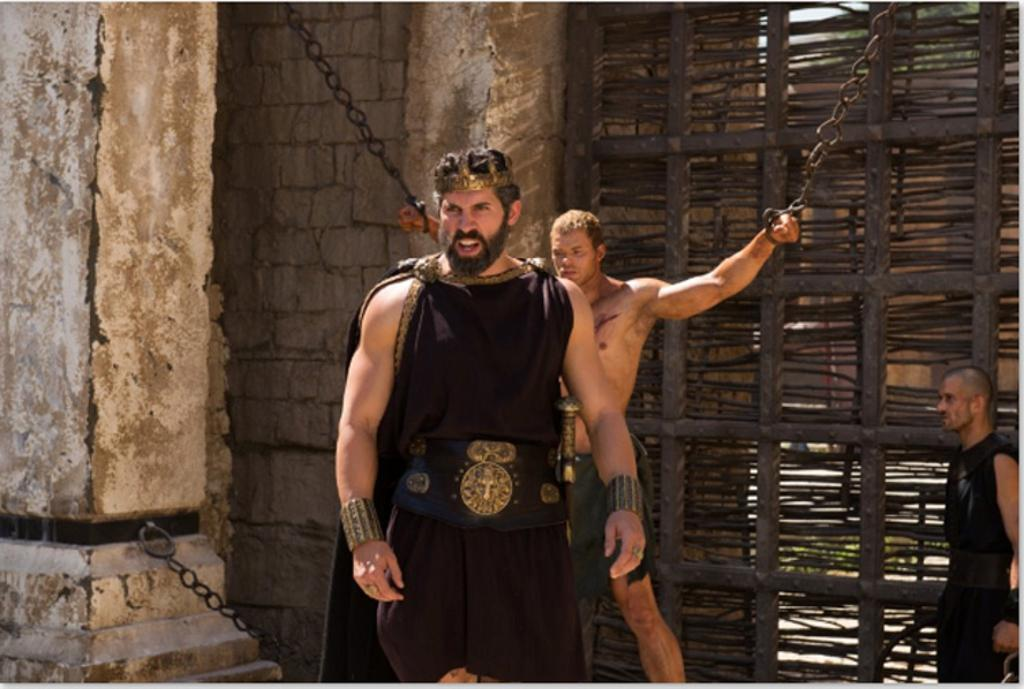face: (439, 191, 504, 274), (551, 234, 593, 287), (937, 380, 972, 431)
